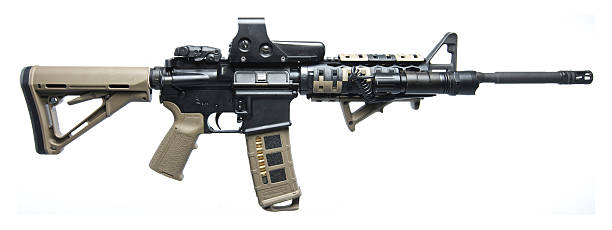rifle: (16, 8, 594, 213)
